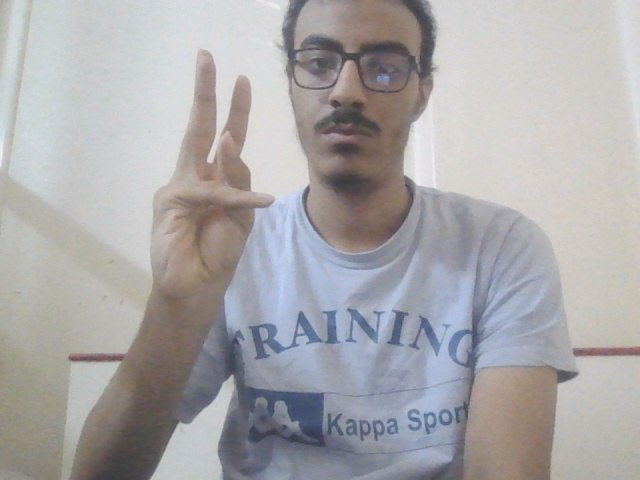Water: (140, 46, 278, 314)
